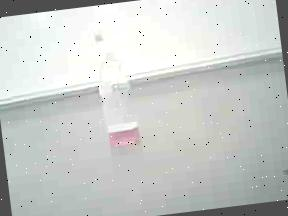hazard: (90, 24, 146, 154)
